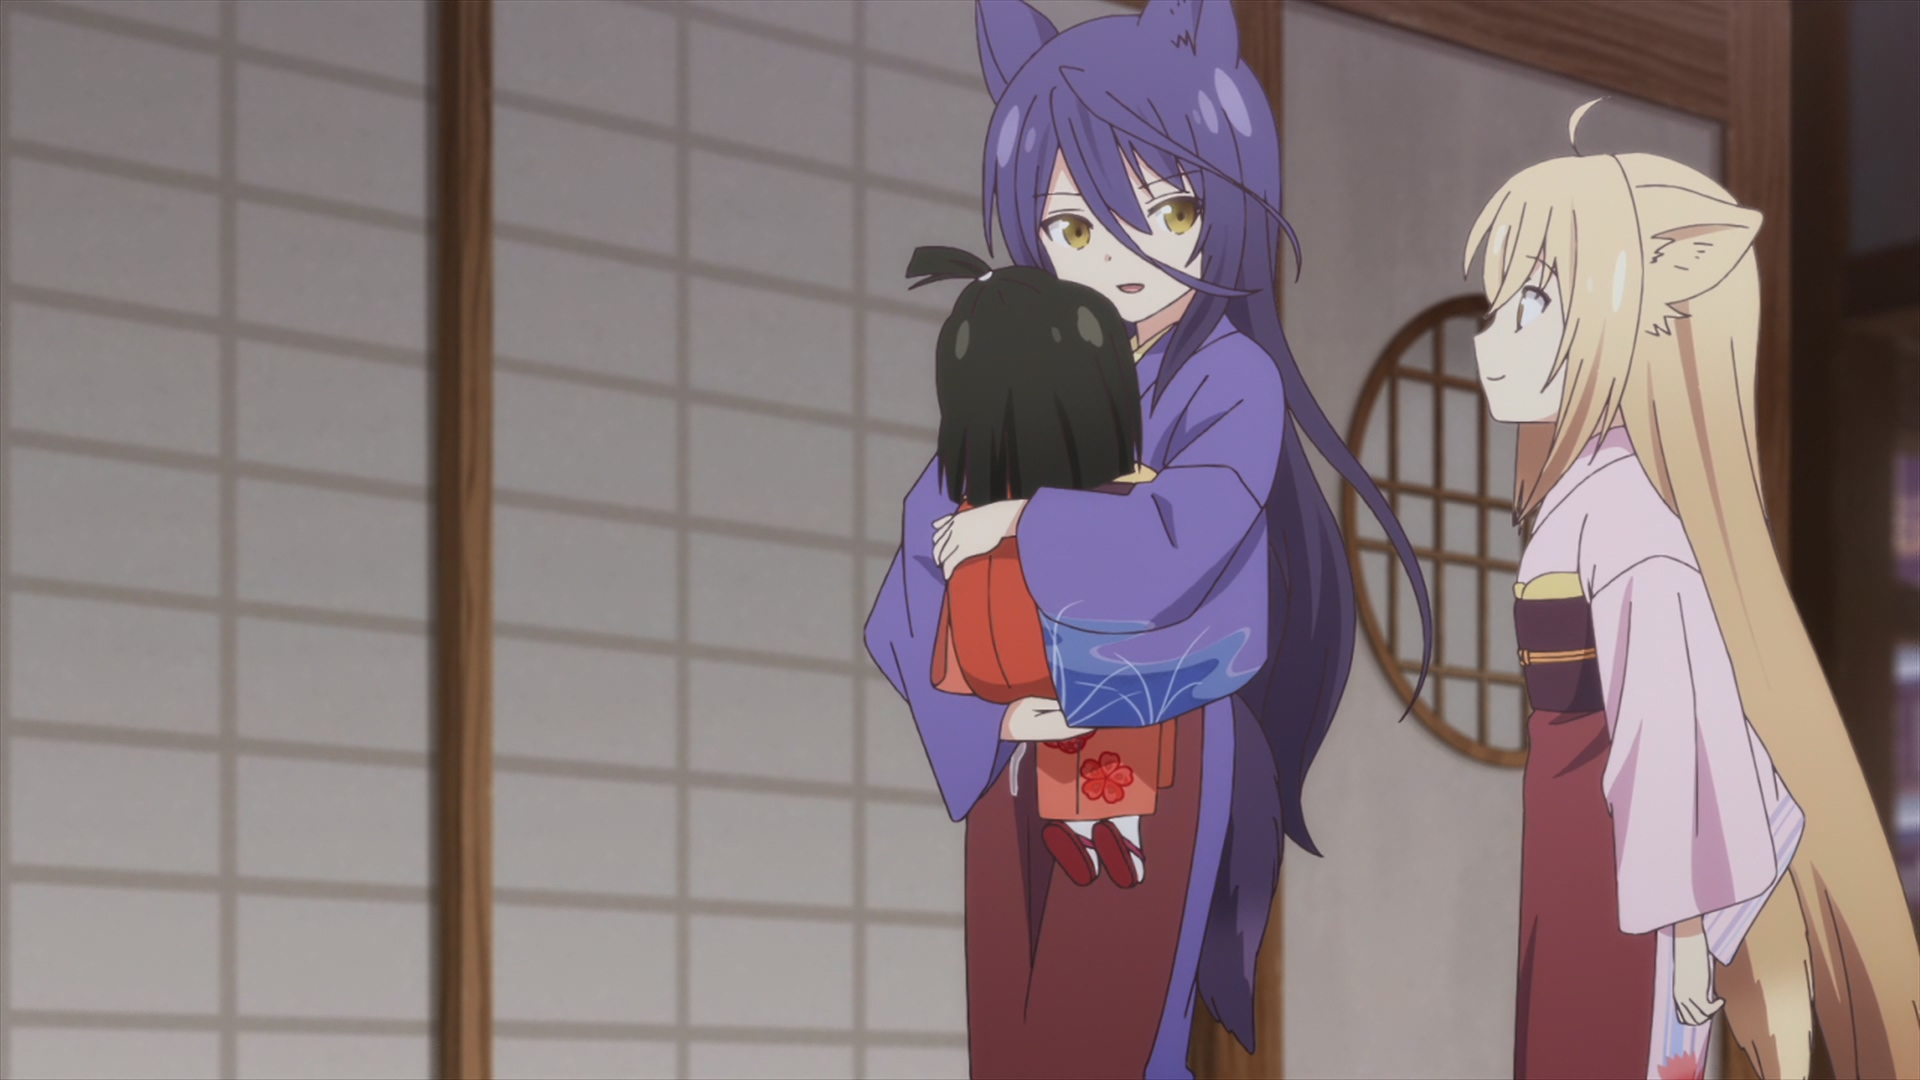其他: (910, 241, 1176, 885)
柚: (1465, 96, 1920, 1080)
皋: (861, 1, 1437, 1080)
